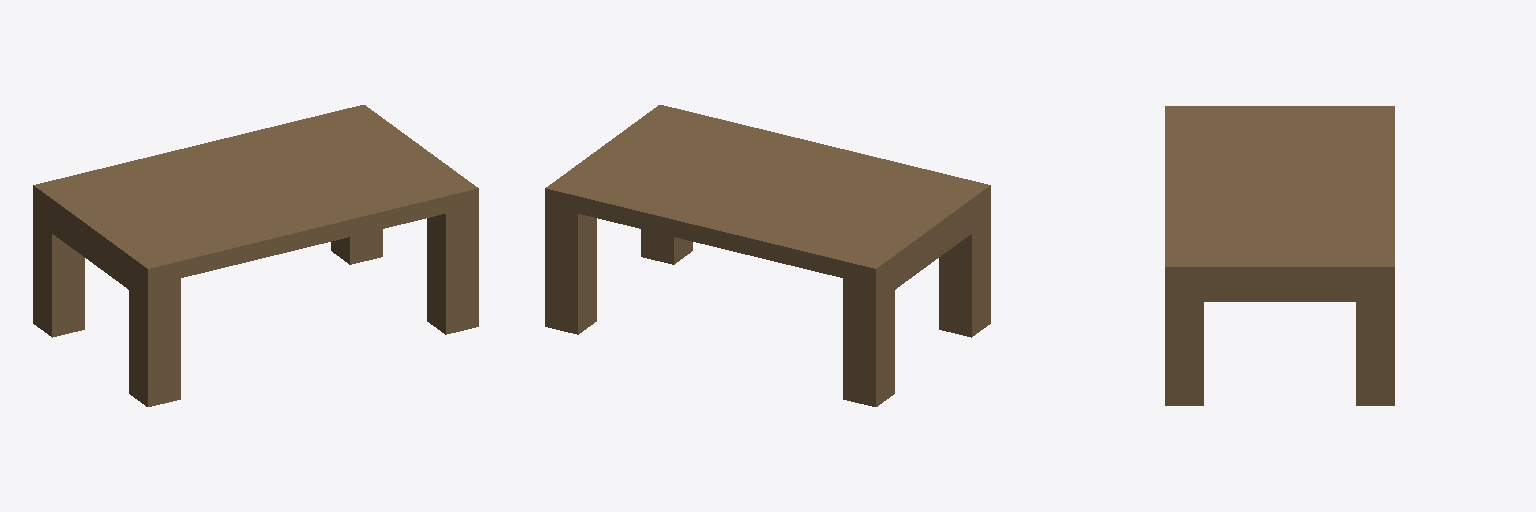
The picture shows the model from 3 angles: view 1: azimuth 30°, elevation 25°; view 2: azimuth 150°, elevation 25°; view 3: azimuth 270°, elevation 25°; orthographic projection.
Visible parts, largest first — view 1: dining_table2; view 2: dining_table2; view 3: dining_table2.
Boxes of the visible parts, x1,y1,x2,y2 form: dining_table2: [33, 105, 478, 406]; dining_table2: [545, 105, 990, 406]; dining_table2: [1165, 106, 1394, 405].
Size of the model in its own units: 20 by 8 by 12.
Materials: 1 (1 with a texture image).